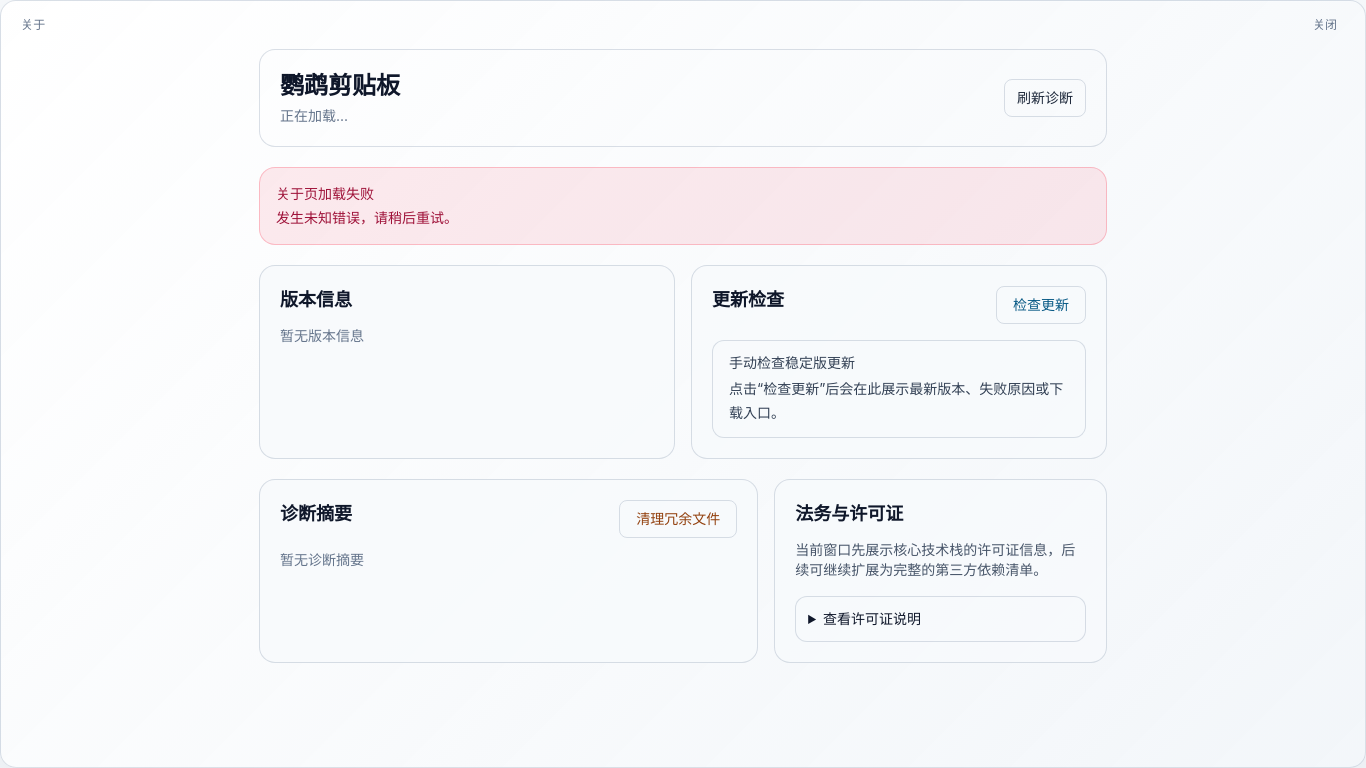
Test: AboutWindow › 加载失败时展示错误并支持重试
Expected: the element with test id "about-error" shows "发生未知错误，请稍后重试。", [276,209,458,226]
Click the button with test id "about-refresh-button".
click(1045, 98)  # box [1004,79,1086,117]
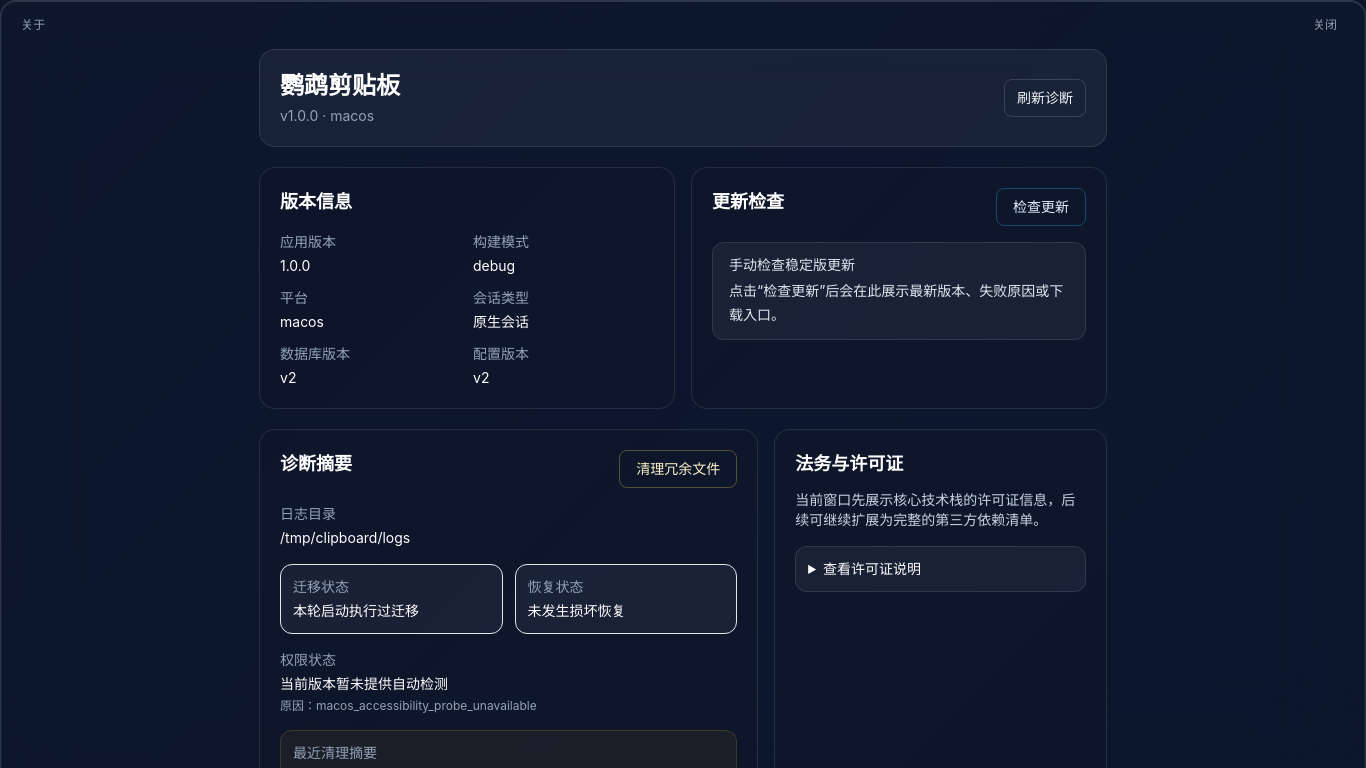
Now the element with test id "about-release-card" shows "1.0.0", box [280,257,310,274]
